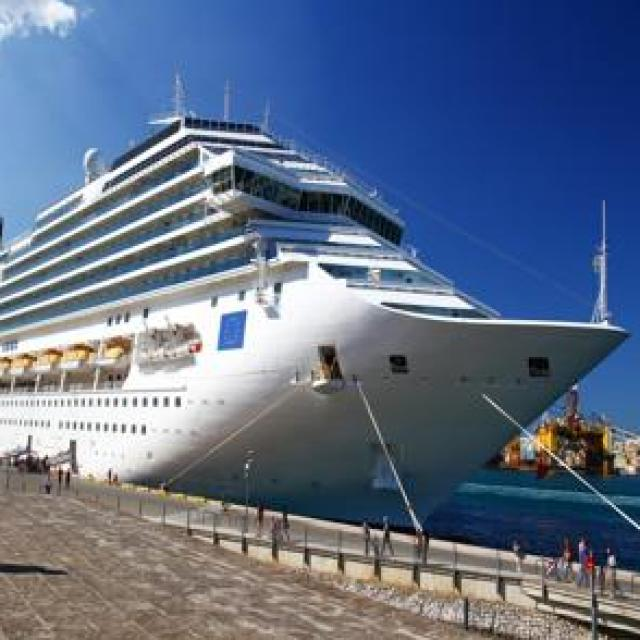passenger ship: (0, 109, 629, 490)
